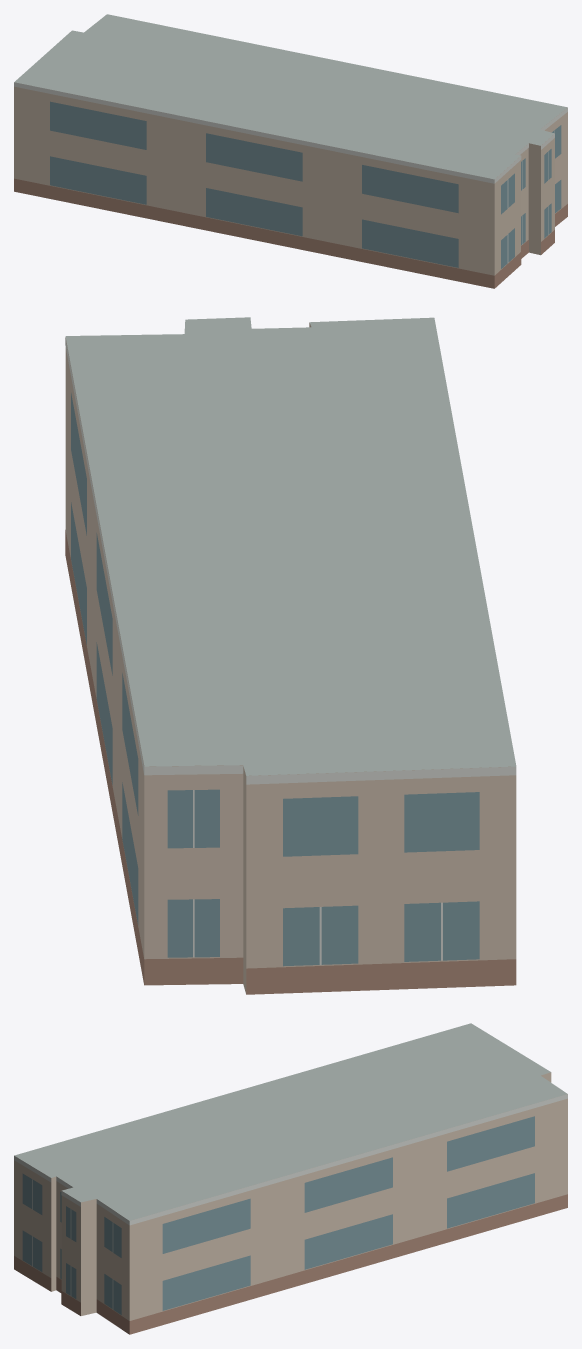
The model's file is survey-upis-32621896.glb.
3 renders of one model, top to bottom at view 1: azimuth 30°, elevation 25°; view 2: azimuth 150°, elevation 25°; view 3: azimuth 270°, elevation 25°, orthographic. The views are drawn at different scales.
Visible parts, largest first — view 1: survey-upis-32621896.tmp; view 2: survey-upis-32621896.tmp; view 3: survey-upis-32621896.tmp.
Part boxes in pixels (left/top/right/bottom): survey-upis-32621896.tmp: left=14, top=14, right=567, bottom=288; survey-upis-32621896.tmp: left=65, top=317, right=516, bottom=994; survey-upis-32621896.tmp: left=14, top=1023, right=567, bottom=1334.
Bounding box in the file's own units: 22.75 × 6.1 × 26.92.
